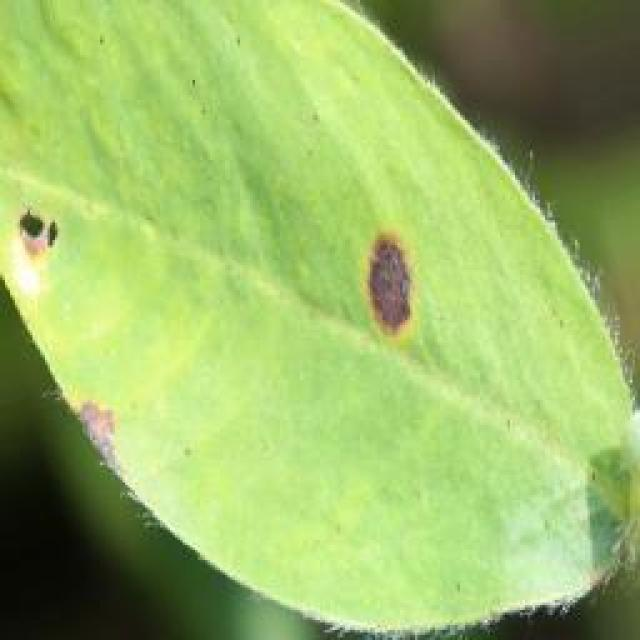Sigatoka: (338, 204, 425, 364), (1, 211, 91, 288), (85, 385, 136, 476)
